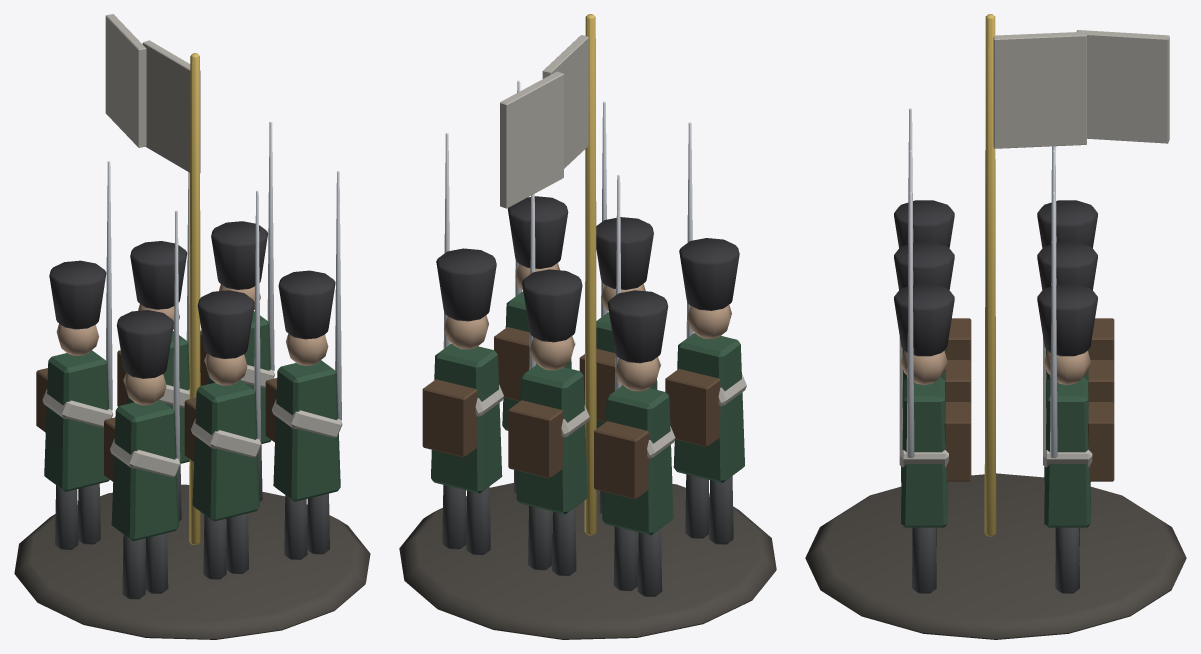
Rendered from Imperial_Column.glb.
3 renders of one model, left to right at view 1: azimuth 30°, elevation 25°; view 2: azimuth 150°, elevation 25°; view 3: azimuth 270°, elevation 25°, orthographic. The views are drawn at different scales.
Parts seen in each view (by area): view 1: ColumnPlinth, Torso_-0.4_-0.3, Torso_0.0_-0.3, Torso_0.4_-0.3, Torso_-0.4_0.3, RegimentFlagA, RegimentFlagB, EaglePole, Shako_0.0_-0.3, Shako_0.4_-0.3, Shako_-0.4_-0.3, Shako_-0.4_0.3 (+30 smaller); view 2: ColumnPlinth, RegimentFlagB, Torso_-0.4_0.3, Torso_0.0_0.3, Torso_0.4_0.3, Torso_-0.4_-0.3, EaglePole, Pack_0.4_0.3, Pack_0.0_0.3, Pack_-0.4_0.3, Shako_0.0_0.3, Shako_-0.4_0.3 (+26 smaller); view 3: ColumnPlinth, RegimentFlagA, RegimentFlagB, EaglePole, Torso_0.4_0.3, Torso_0.4_-0.3, Shako_0.4_0.3, Shako_0.4_-0.3, Shako_-0.4_0.3, Shako_0.0_0.3, Shako_-0.4_-0.3, Shako_0.0_-0.3 (+14 smaller).
Part boxes in pixels (x1=…): ColumnPlinth: x1=14, y1=484, x2=370, y2=639; Torso_-0.4_-0.3: x1=111, y1=399, x2=178, y2=541; Torso_0.0_-0.3: x1=192, y1=380, x2=259, y2=521; Torso_0.4_-0.3: x1=273, y1=360, x2=340, y2=501; Torso_-0.4_0.3: x1=44, y1=350, x2=109, y2=491; RegimentFlagA: x1=142, y1=40, x2=200, y2=172; RegimentFlagB: x1=105, y1=14, x2=146, y2=147; EaglePole: x1=189, y1=53, x2=200, y2=544; Shako_0.0_-0.3: x1=197, y1=290, x2=254, y2=358; Shako_0.4_-0.3: x1=278, y1=270, x2=335, y2=339; Shako_-0.4_-0.3: x1=116, y1=310, x2=173, y2=378; Shako_-0.4_0.3: x1=49, y1=260, x2=106, y2=329; ColumnPlinth: x1=399, y1=483, x2=776, y2=639; RegimentFlagB: x1=500, y1=71, x2=563, y2=208; Torso_-0.4_0.3: x1=602, y1=385, x2=673, y2=535; Torso_0.0_0.3: x1=516, y1=364, x2=587, y2=514; Torso_0.4_0.3: x1=431, y1=343, x2=502, y2=493; Torso_-0.4_-0.3: x1=673, y1=333, x2=744, y2=482; EaglePole: x1=584, y1=14, x2=596, y2=535; Pack_0.4_0.3: x1=422, y1=379, x2=477, y2=457; Pack_0.0_0.3: x1=508, y1=400, x2=563, y2=478; Pack_-0.4_0.3: x1=594, y1=421, x2=648, y2=499; Shako_0.0_0.3: x1=522, y1=269, x2=582, y2=342; Shako_-0.4_0.3: x1=607, y1=290, x2=668, y2=363; ColumnPlinth: x1=805, y1=473, x2=1186, y2=639; RegimentFlagA: x1=993, y1=31, x2=1086, y2=148; RegimentFlagB: x1=1076, y1=30, x2=1169, y2=143; EaglePole: x1=984, y1=14, x2=996, y2=536; Torso_0.4_0.3: x1=1044, y1=377, x2=1090, y2=527; Torso_0.4_-0.3: x1=901, y1=377, x2=947, y2=527; Shako_0.4_0.3: x1=1037, y1=284, x2=1097, y2=356; Shako_0.4_-0.3: x1=894, y1=284, x2=954, y2=356; Shako_-0.4_0.3: x1=1037, y1=200, x2=1097, y2=248; Shako_0.0_0.3: x1=1037, y1=242, x2=1097, y2=290; Shako_-0.4_-0.3: x1=894, y1=200, x2=954, y2=248; Shako_0.0_-0.3: x1=894, y1=242, x2=954, y2=290.
Bounding box in the file's own units: 1.38 × 2.18 × 1.38.
